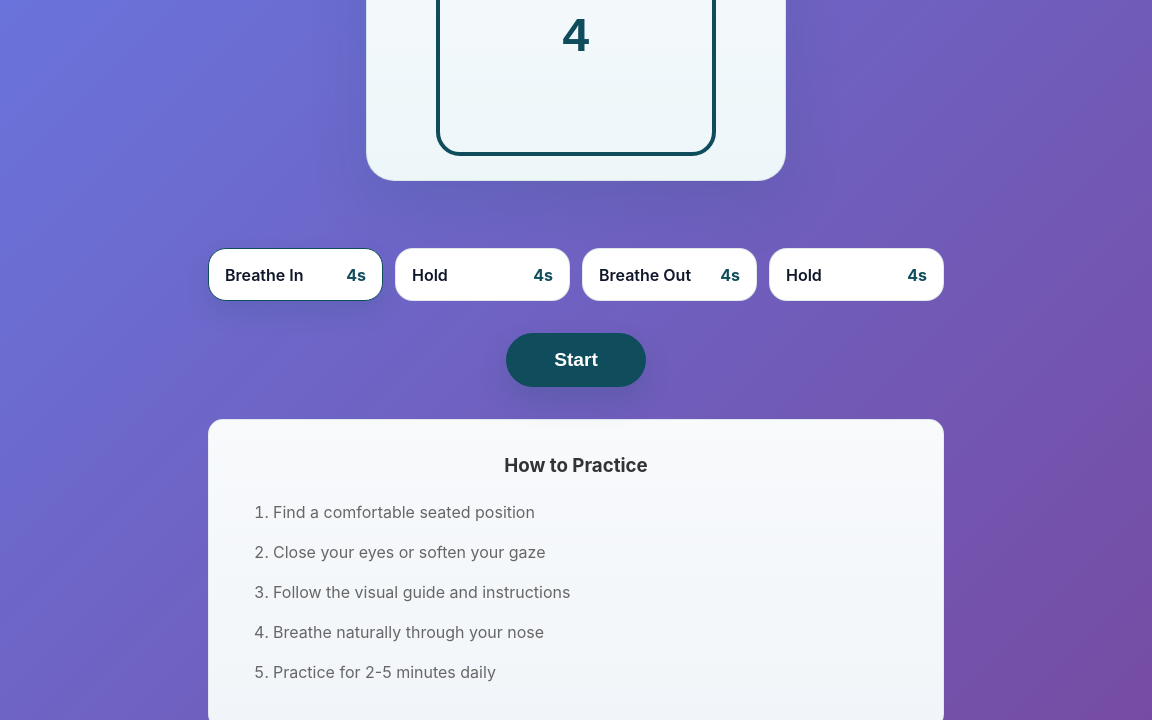
Test: BreathingExercise › shows a box guide by default and moves the dot when the exercise starts
This screenshot has width=1152, height=720.
(page scrolled)
Click the button "Start" at (576, 360), box left=506, top=333, right=646, bottom=387
Wait 2000 ms
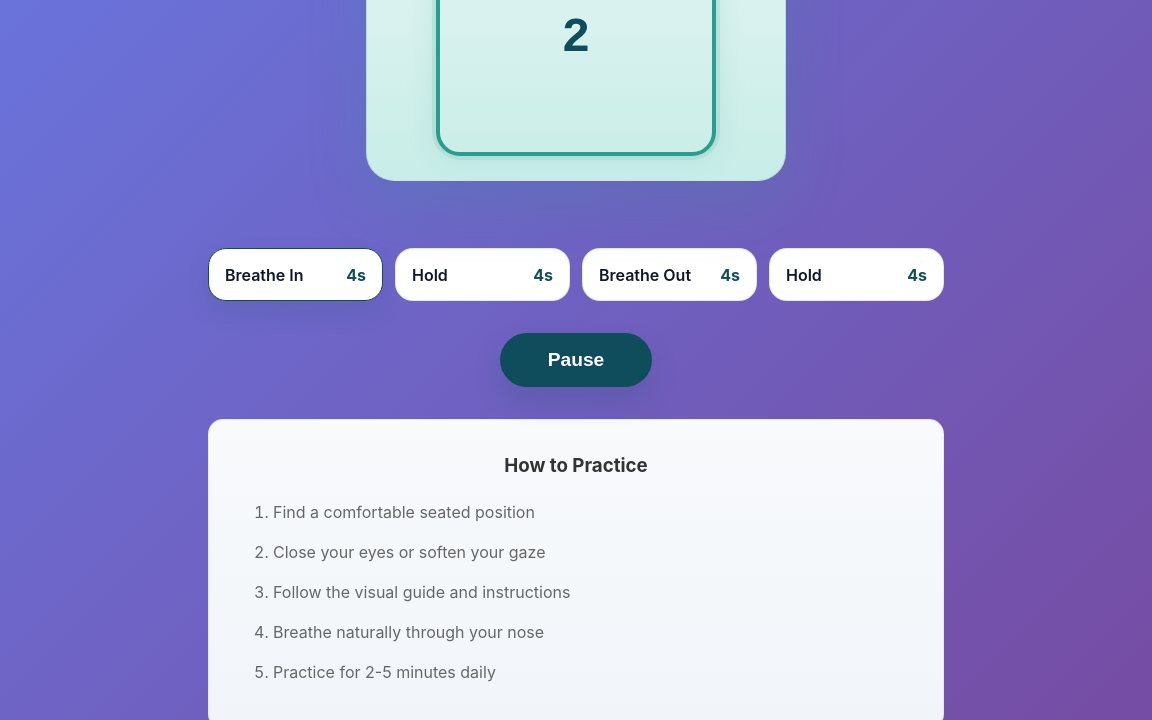
Now the text with test id "breathing-countdown" reads "2", box left=562, top=11, right=590, bottom=65
